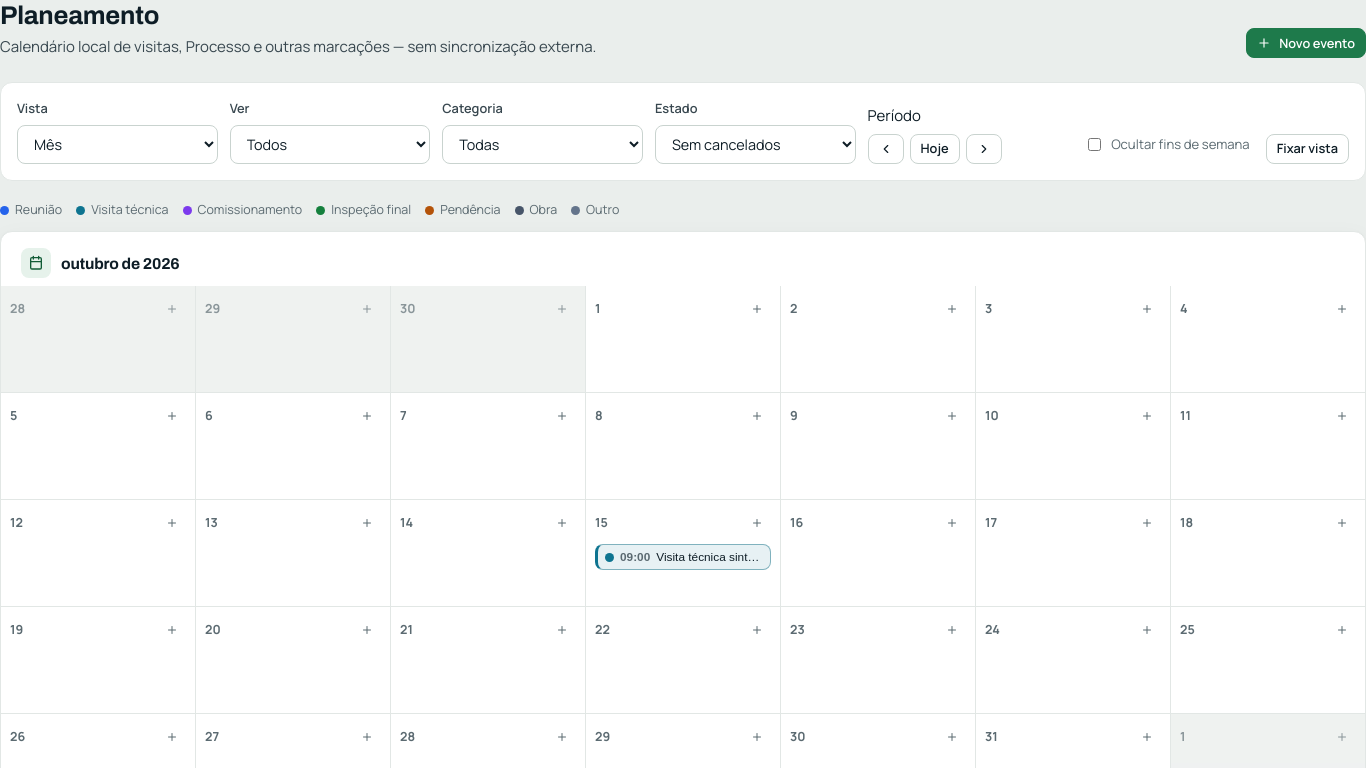
Test: Planeamento › mostra os eventos do período na grelha da vista de semana
The image size is (1366, 768).
Expected: the text "Visita técnica sintética" is shown, [656, 550, 763, 564]
Step 1. Select "Semana" in the dropdown labelled "Vista" → [117, 144], box [17, 125, 218, 164]
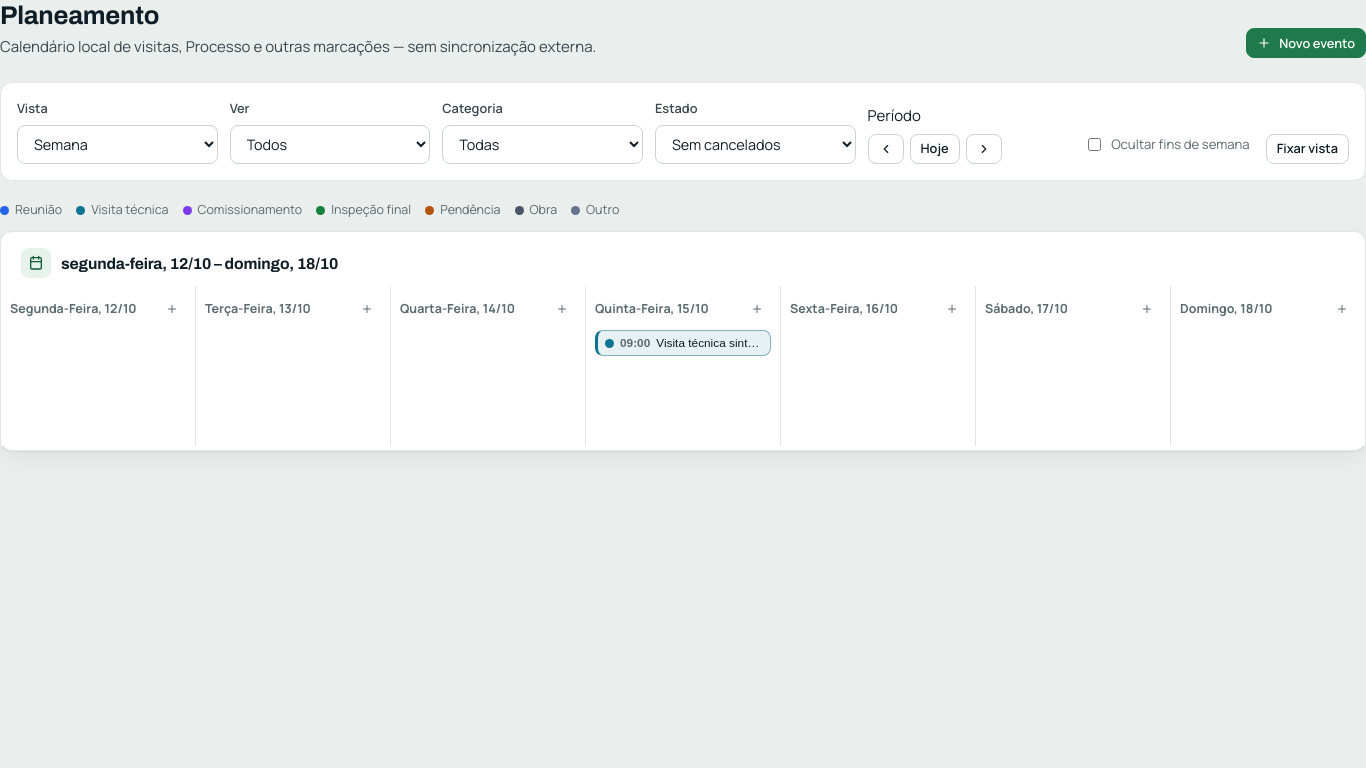
Expected: the button "09:00 Visita técnica sintética" is shown, [595, 330, 771, 356]
Now the number of elements with test id "planning-day" is 7
